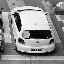motor: (13, 5, 51, 57)
